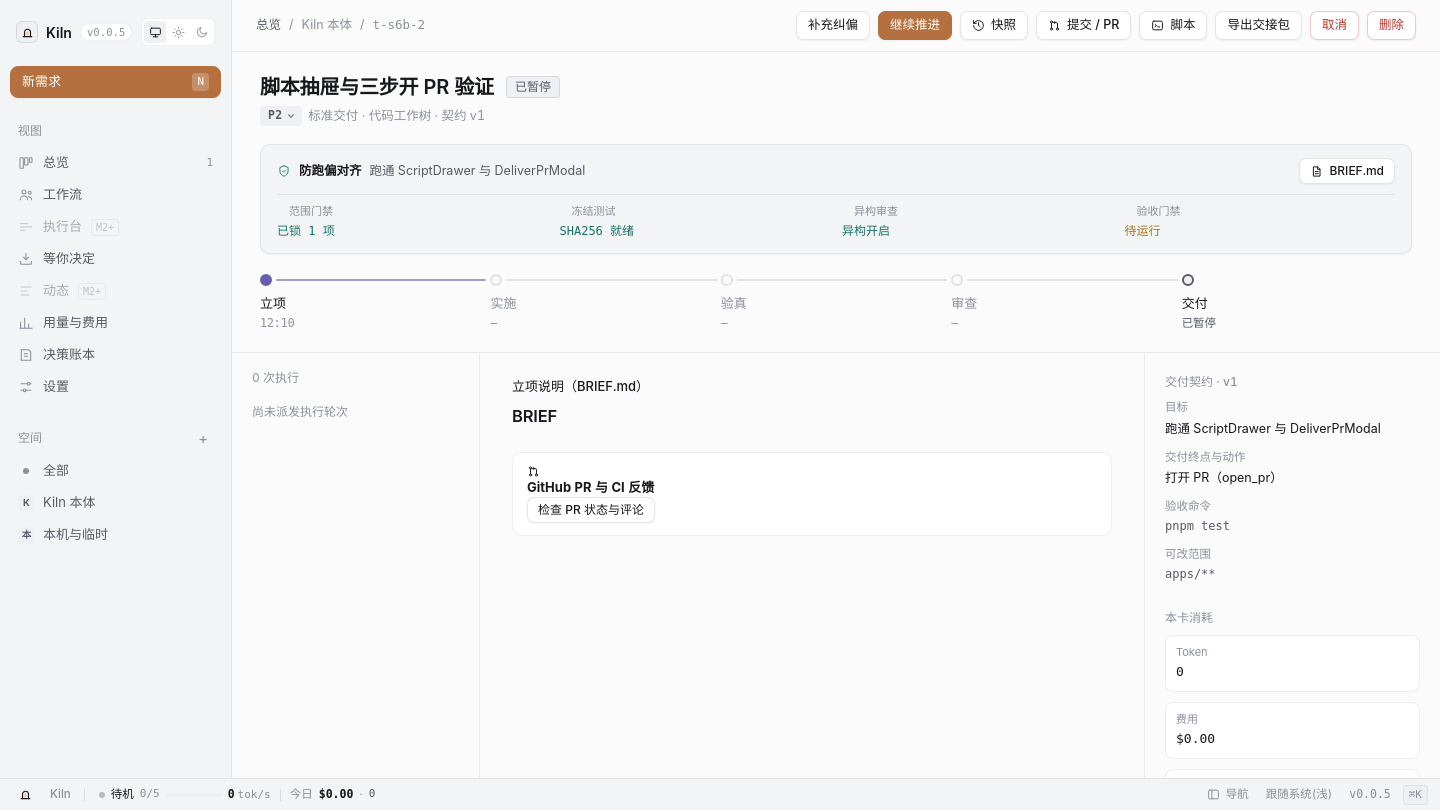
@kiln/web Slice 6b DetailView & IntakeView › supports ScriptDrawer (J shortcut, SSE script.output, stop) and 3-step DeliverPrModal without <input> inside .reader
The width and height of the screenshot is (1440, 810).
Later steps or results of the test are not shown.
Expected: the button "提交 / PR" is shown, [1036, 11, 1132, 40]
Press j
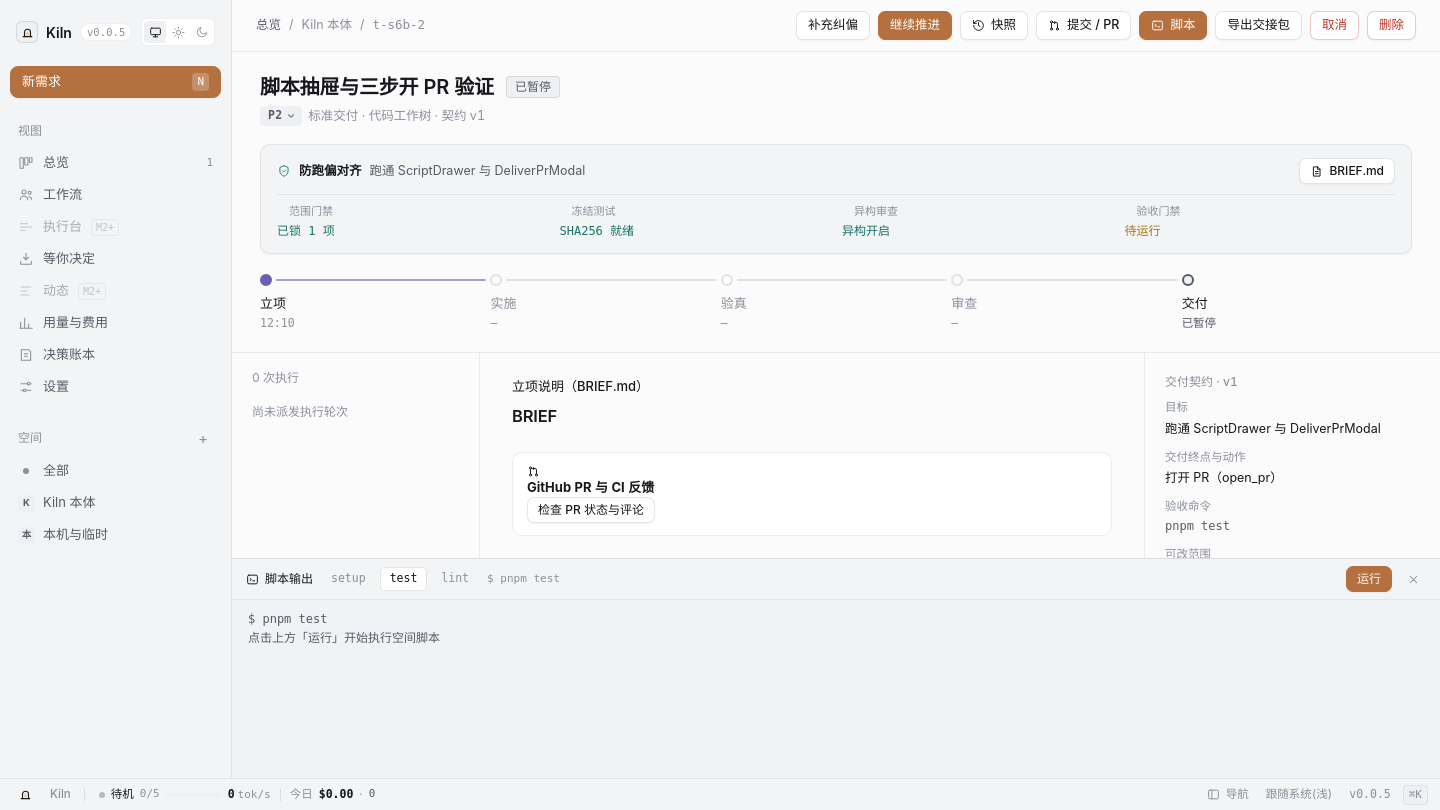
Expected: the element named "项目脚本输出" is shown, [232, 558, 1439, 778]
Click the button "运行". click: {"x": 1369, "y": 579}
box: [1346, 566, 1392, 592]
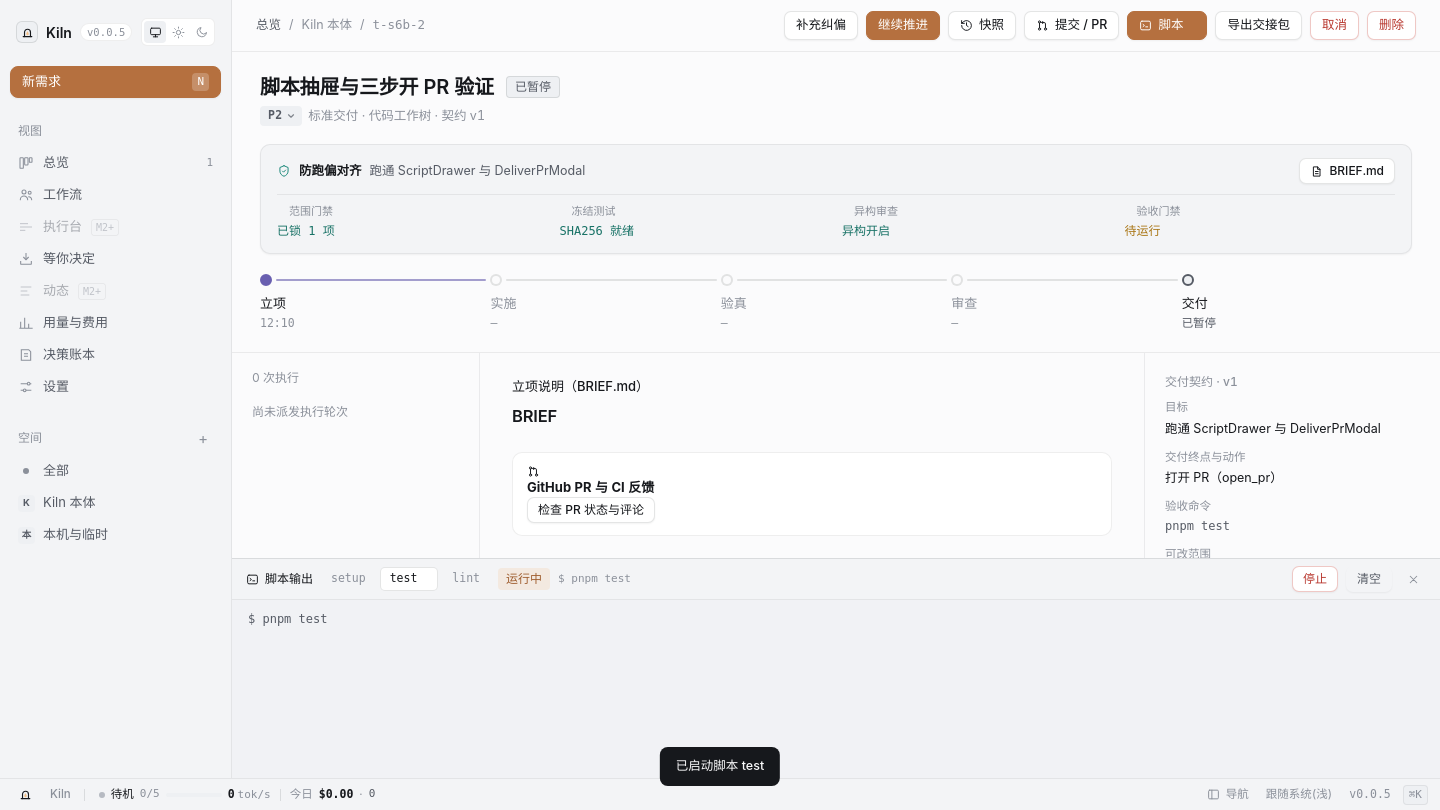
Expected: the button "停止" is shown, [1292, 566, 1338, 592]
